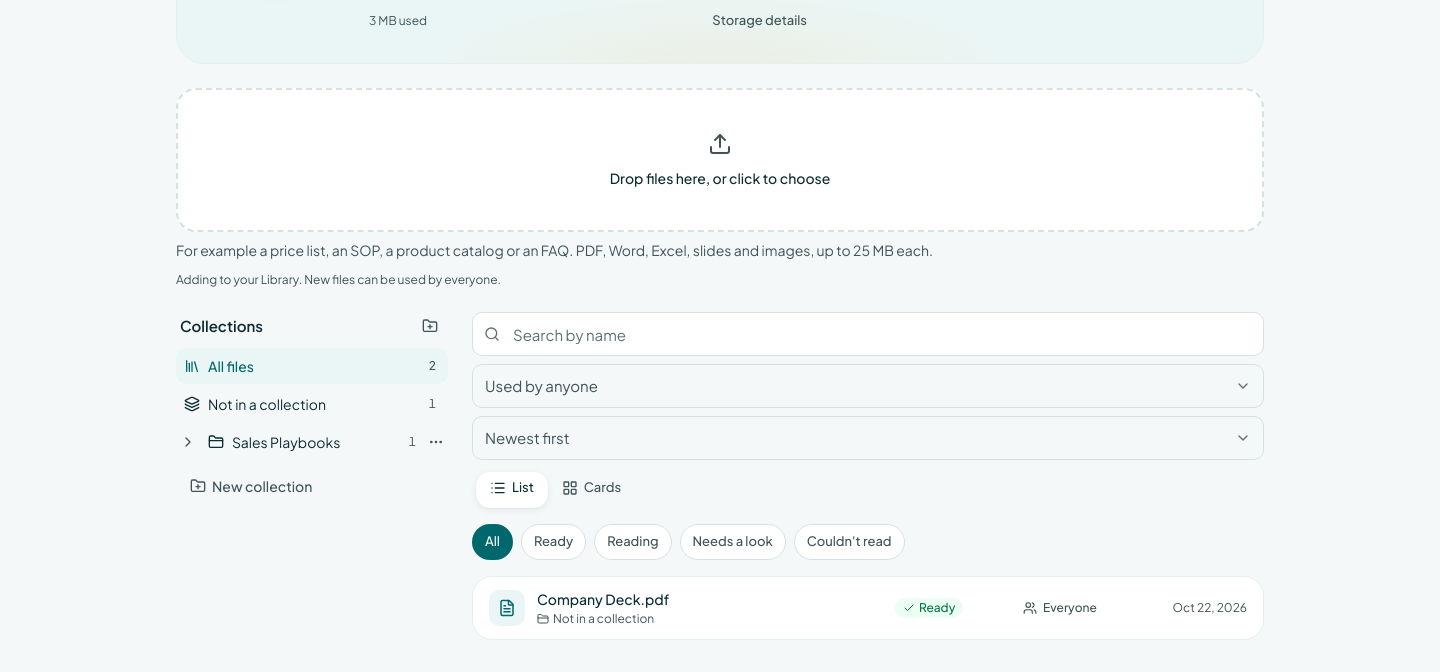
Test: the file drawer › flags a document whose access change has not reached Sino yet
This screenshot has width=1440, height=672.
(page scrolled)
Click the button with aria-label "Open Company Deck.pdf": (507, 608) [473, 577, 1263, 639]
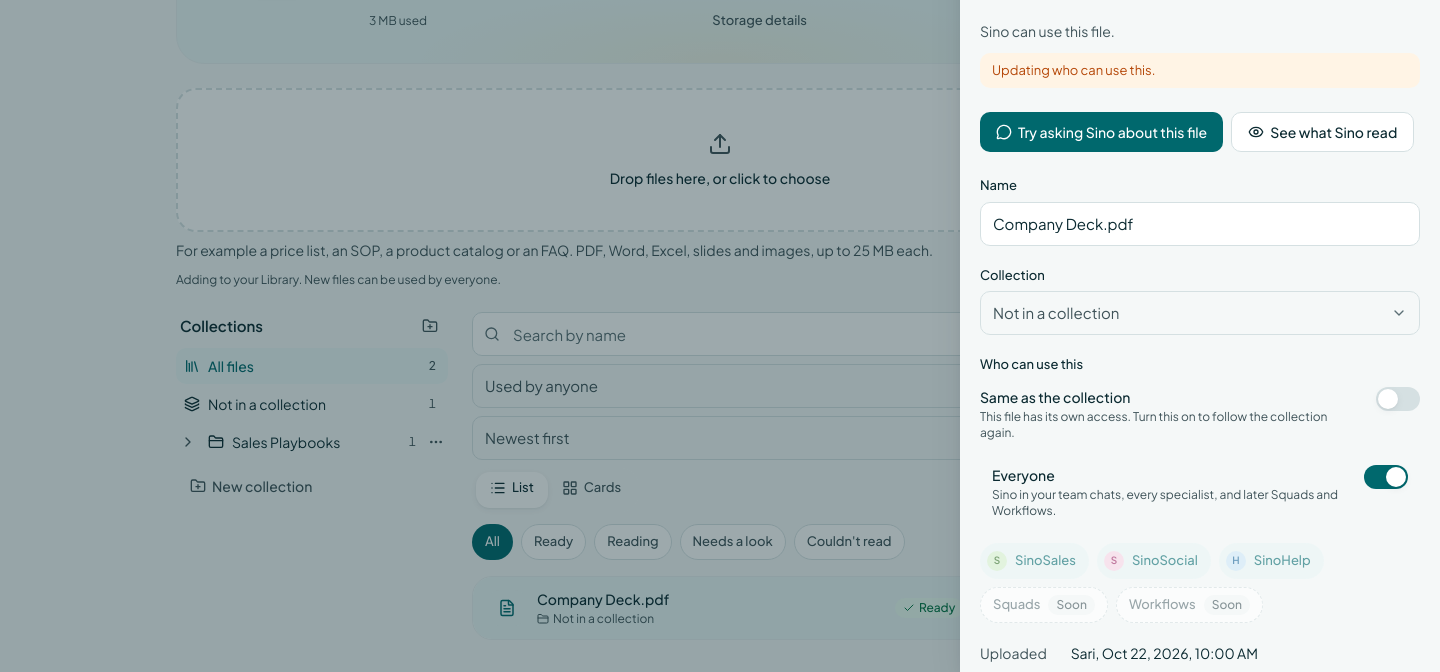
Now the text "Updating who can use this." is shown, box [992, 62, 1155, 78]
